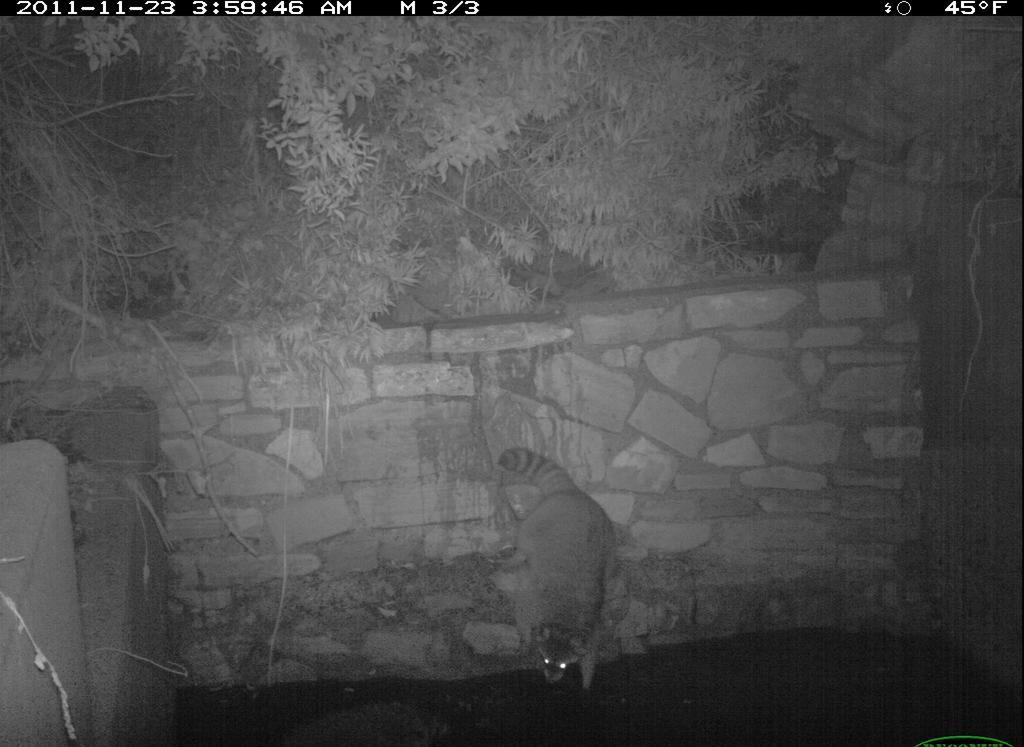raccoon: (497, 436, 624, 699)
